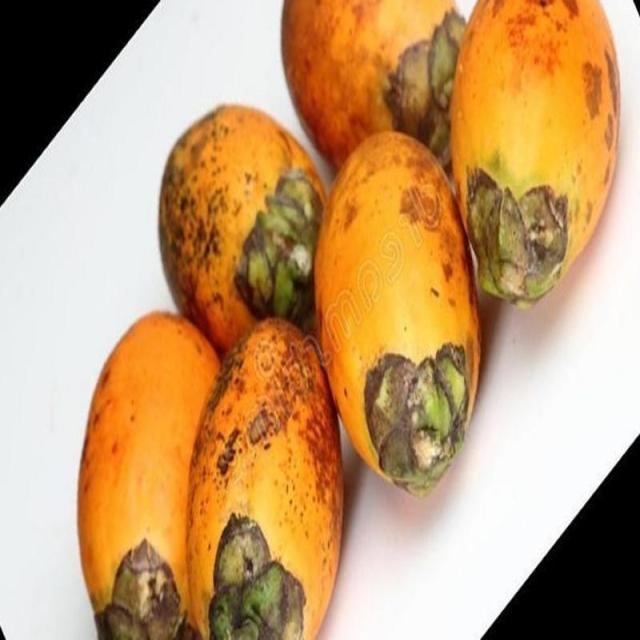good: (313, 131, 483, 500), (448, 0, 622, 310), (179, 319, 346, 639), (76, 312, 226, 639), (158, 104, 327, 361), (280, 0, 464, 171)
